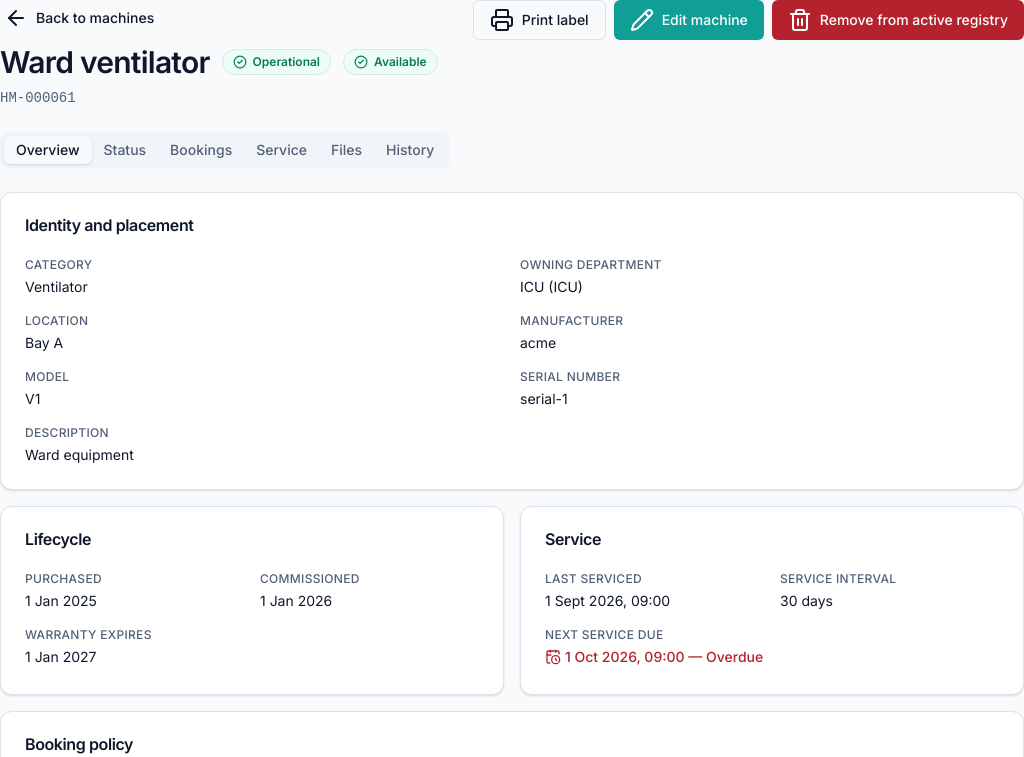
Test case: MachineDetail › requires a PHI-safe removal reason and navigates to the deleted registry view
Click the button "Remove from active registry".
click(898, 20)  # box [772,0,1023,40]
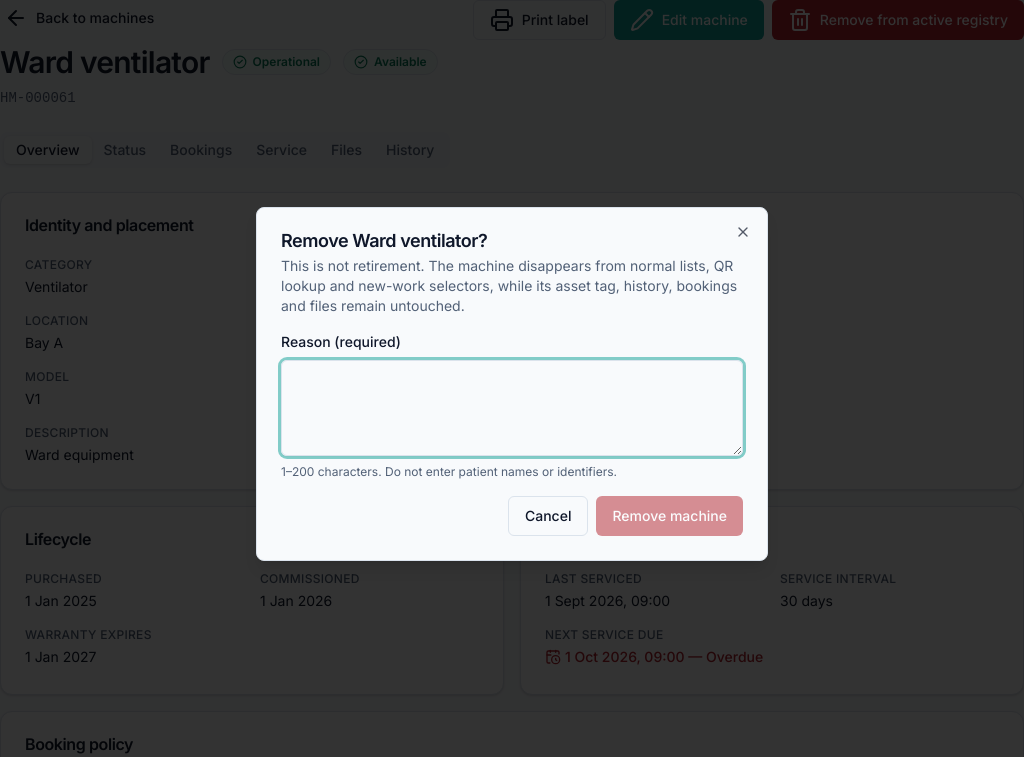
Expected: the text "This is not retirement" is shown, [281,257,737,314]
Expected: the text "1–200 characters. Do not enter patient names or identifiers." is shown, [281,464,617,479]
Expected: the button "Remove machine" is disabled, [596,496,743,536]
Type "Registry correction" into the text box labelled "Reason (required)".
click(512, 408); type("Registry correction")  # box [281,360,743,456]
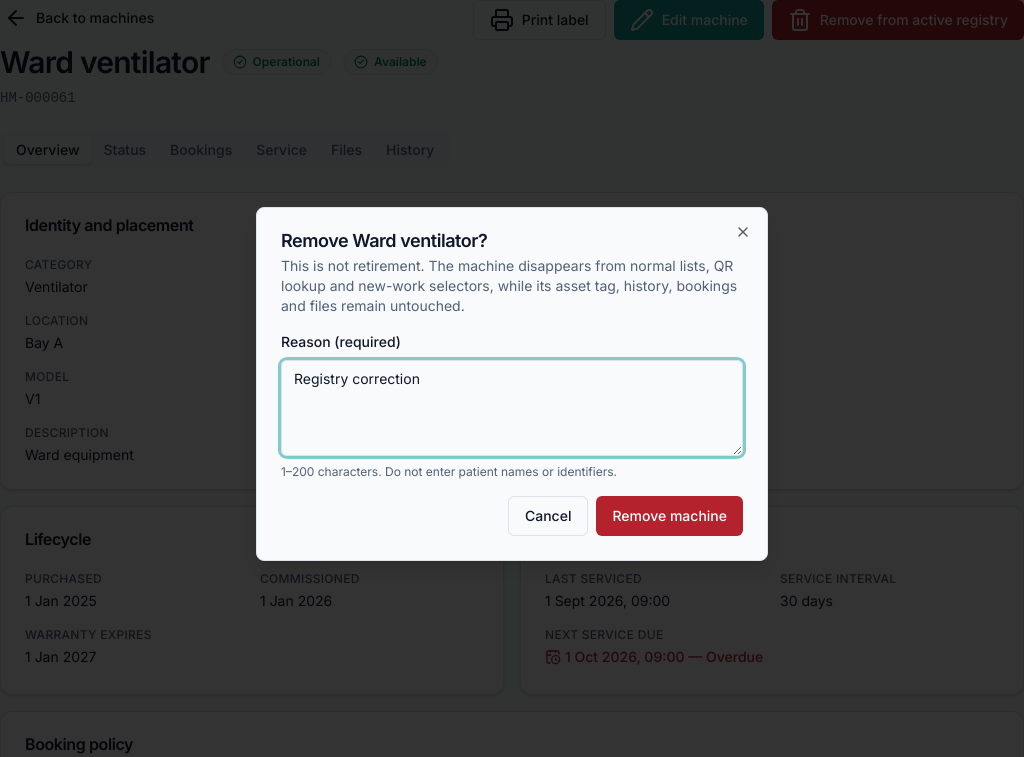
Click the button "Remove machine".
click(670, 516)  # box [596,496,743,536]
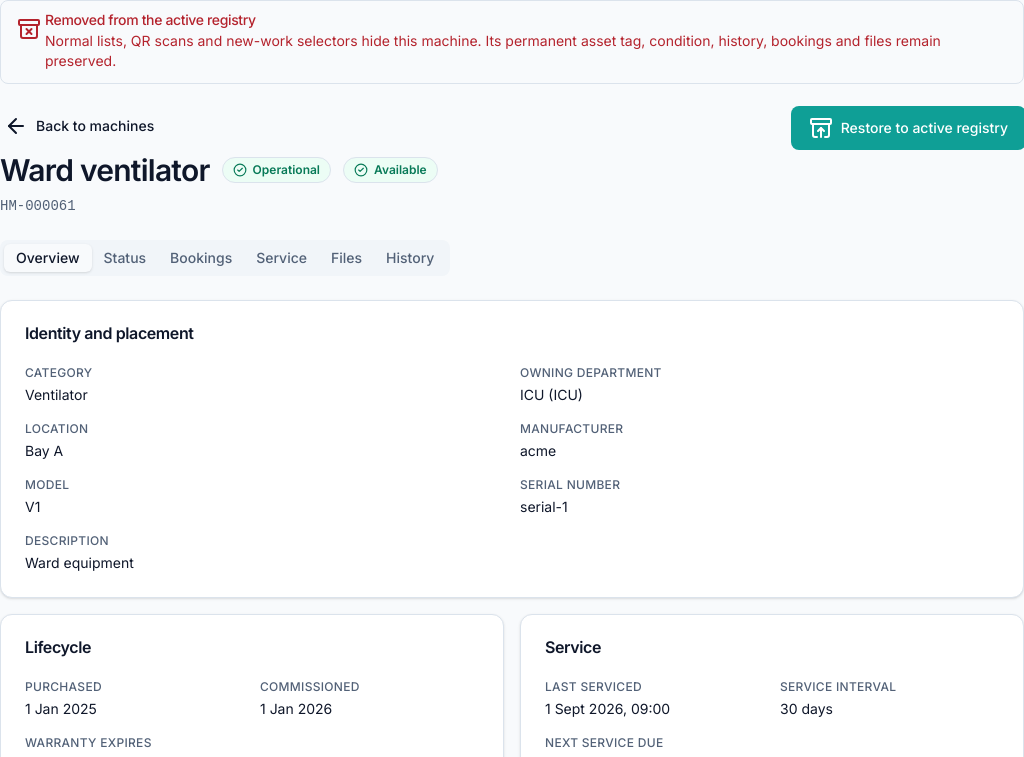
Expected: the button "Restore to active registry" is shown, [793,108,1023,148]
